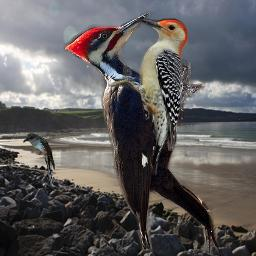Cuckoo: (23, 133, 55, 186)
Woodpecker: (63, 11, 221, 255), (108, 18, 188, 175)
